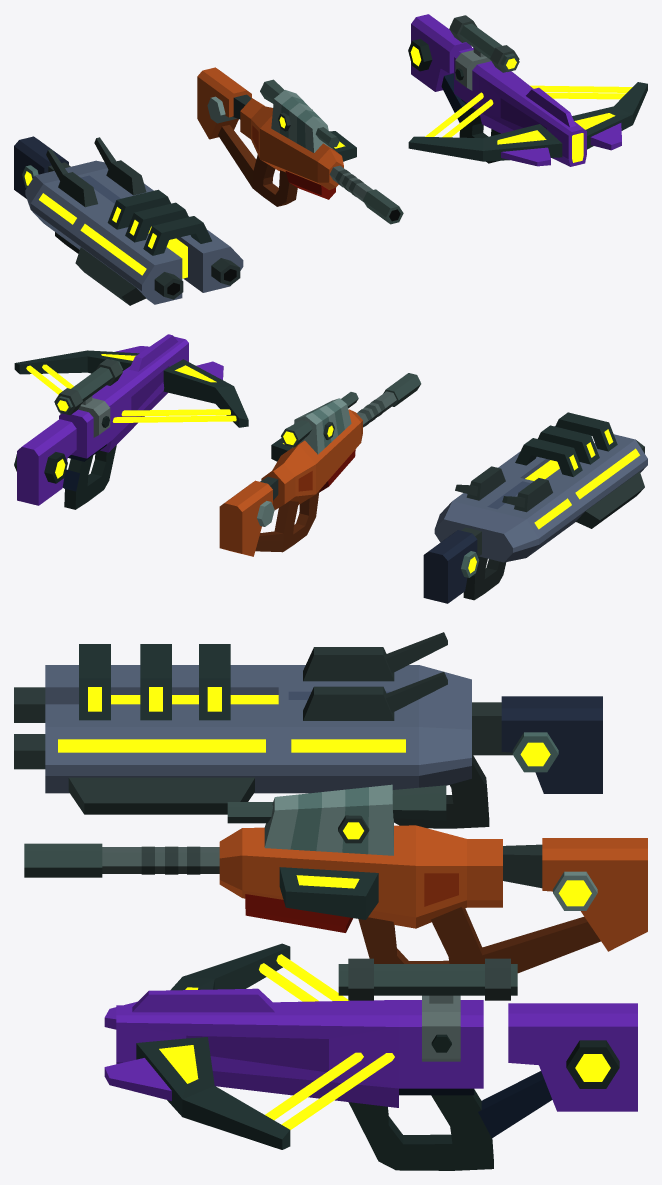
The model's file is weapons-2.fbx.
3 renders of one model, top to bottom at view 1: azimuth 30°, elevation 25°; view 2: azimuth 150°, elevation 25°; view 3: azimuth 270°, elevation 25°, orthographic. The views are drawn at different scales.
Parts seen in each view (by area): view 1: gun-1.003, gun-1.005, gun-1.004; view 2: gun-1.003, gun-1.005, gun-1.004; view 3: gun-1.003, gun-1.005, gun-1.004.
Boxes of the visible parts, x1=… form: gun-1.003: x1=14, y1=136, x2=243, y2=305; gun-1.005: x1=408, y1=14, x2=647, y2=166; gun-1.004: x1=197, y1=67, x2=403, y2=224; gun-1.003: x1=423, y1=412, x2=647, y2=603; gun-1.005: x1=14, y1=334, x2=248, y2=509; gun-1.004: x1=219, y1=373, x2=421, y2=556; gun-1.003: x1=14, y1=632, x2=602, y2=828; gun-1.005: x1=104, y1=943, x2=637, y2=1170; gun-1.004: x1=24, y1=784, x2=647, y2=973.
Size of the model in its own units: 532 by 108 by 298.
